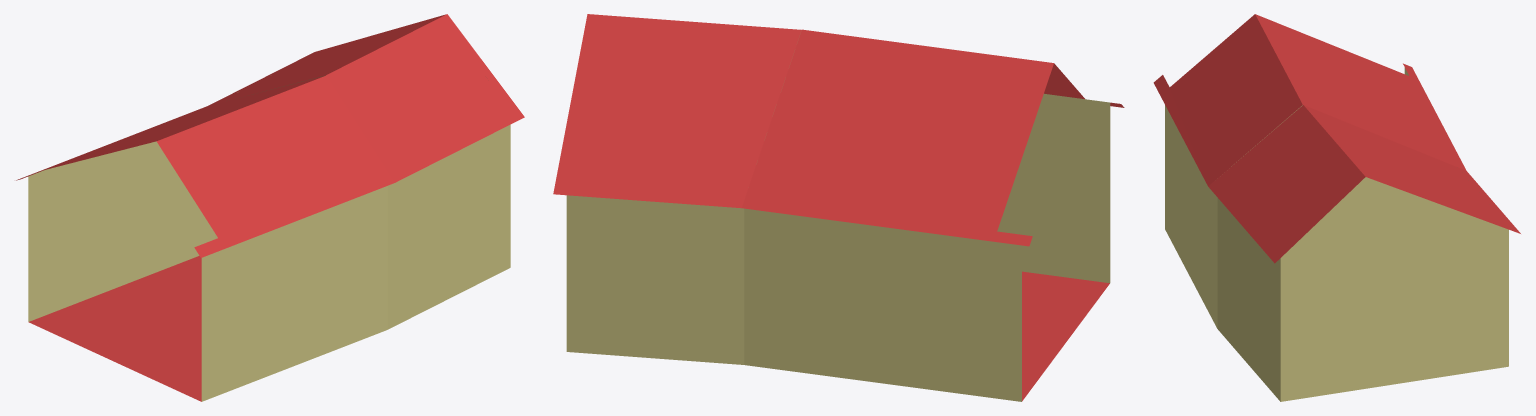
3 views of the same model, side by side, from view 1: azimuth 30°, elevation 25°; view 2: azimuth 150°, elevation 25°; view 3: azimuth 270°, elevation 25° (orthographic). The views are drawn at different scales.
Bounding box in the file's own units: 25.12 × 19.04 × 12.34.
